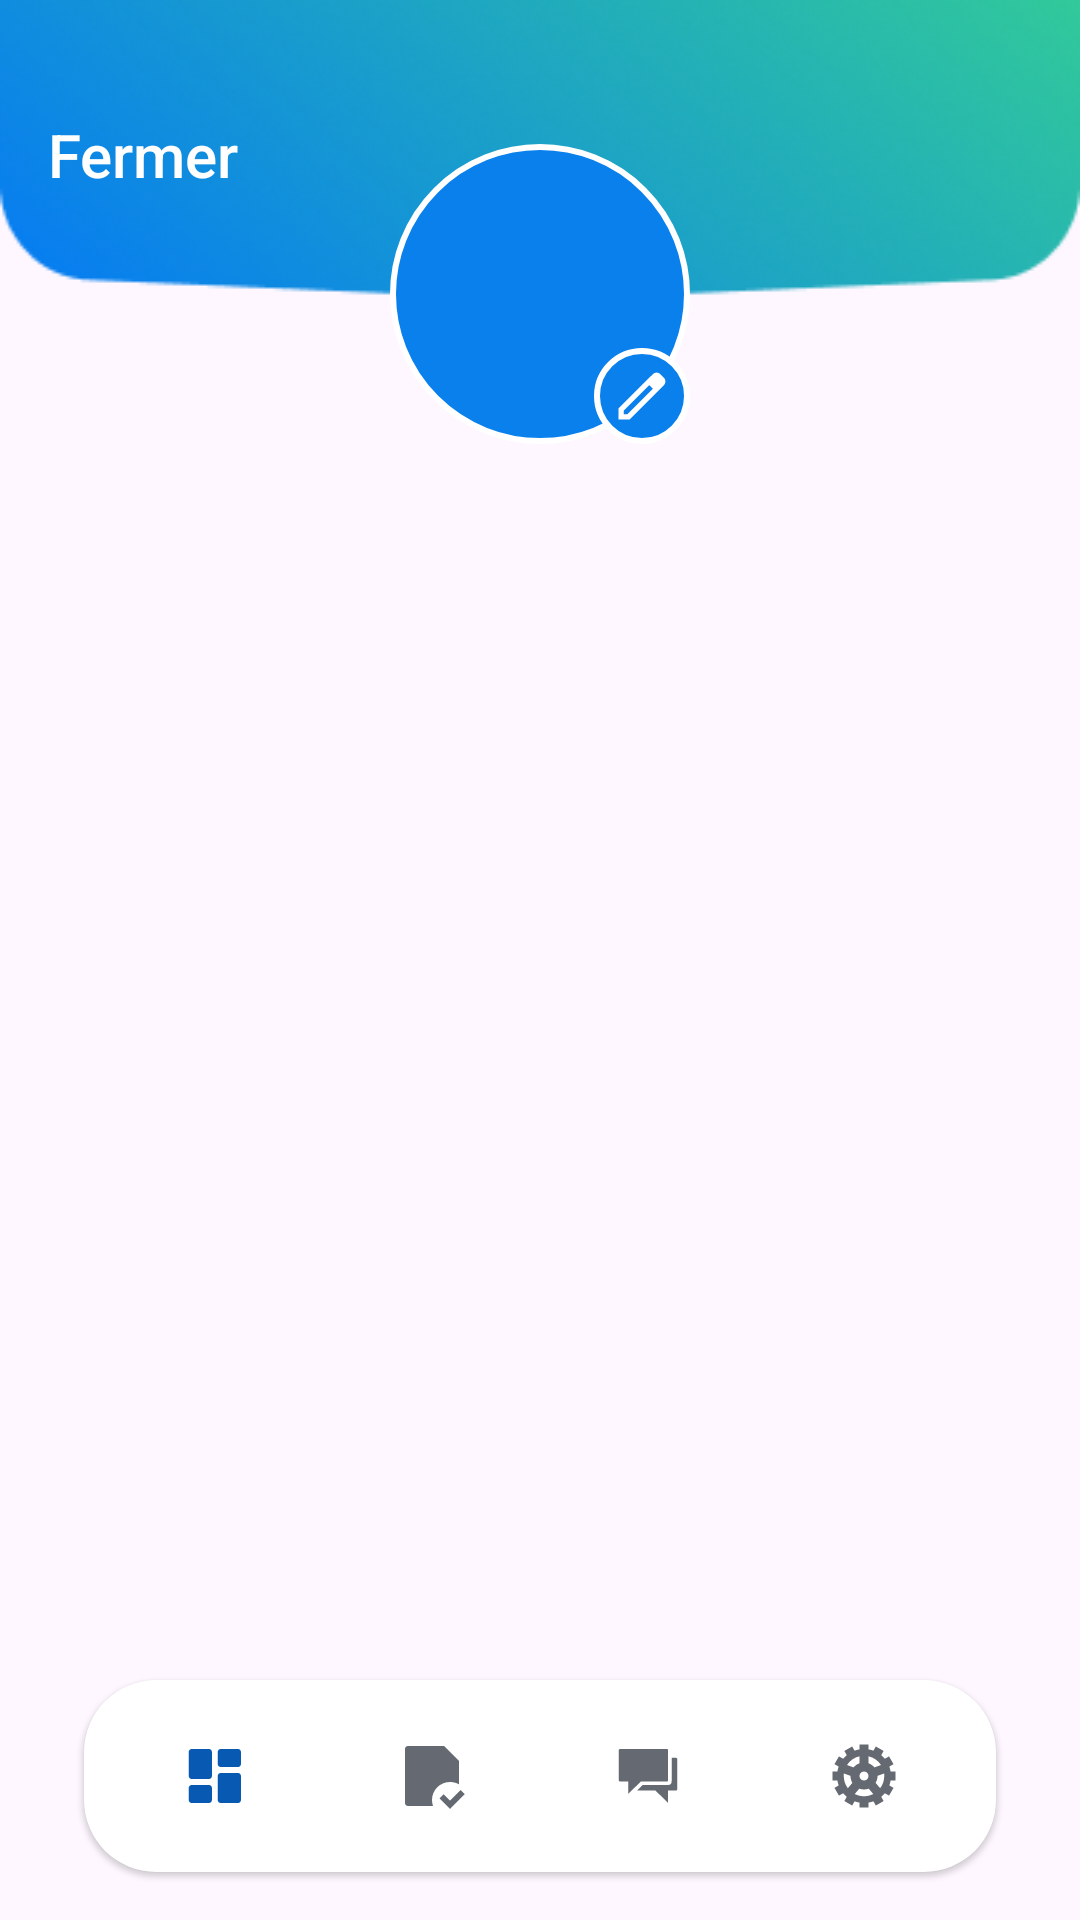

Screen size 1080 × 1920. Icon name, then its center in pixels as (x,y):
edit: (642,396)
